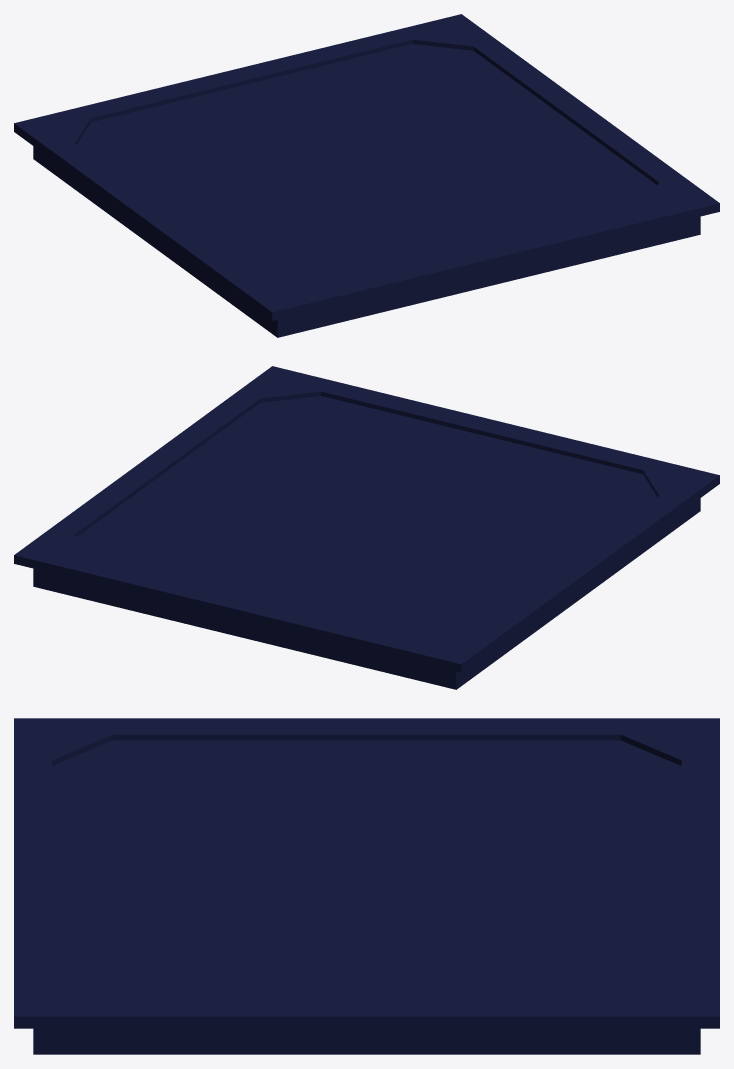
File: SM_platform_metal.fbx
The picture shows the model from 3 angles, top to bottom: view 1: azimuth 30°, elevation 25°; view 2: azimuth 150°, elevation 25°; view 3: azimuth 270°, elevation 25°; orthographic projection. The views are drawn at different scales.
Parts seen in each view (by area): view 1: Box069; view 2: Box069; view 3: Box069.
Part boxes in pixels (box(x1,y1,x2,y2)): Box069: box(14, 14, 719, 337); Box069: box(14, 366, 719, 689); Box069: box(14, 718, 719, 1054).
Size of the model in its own units: 118 by 8.5 by 118.
